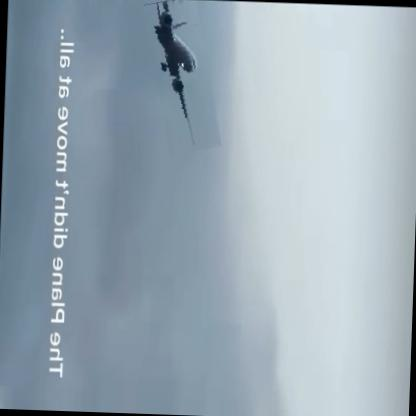plane: (146, 0, 219, 155)
